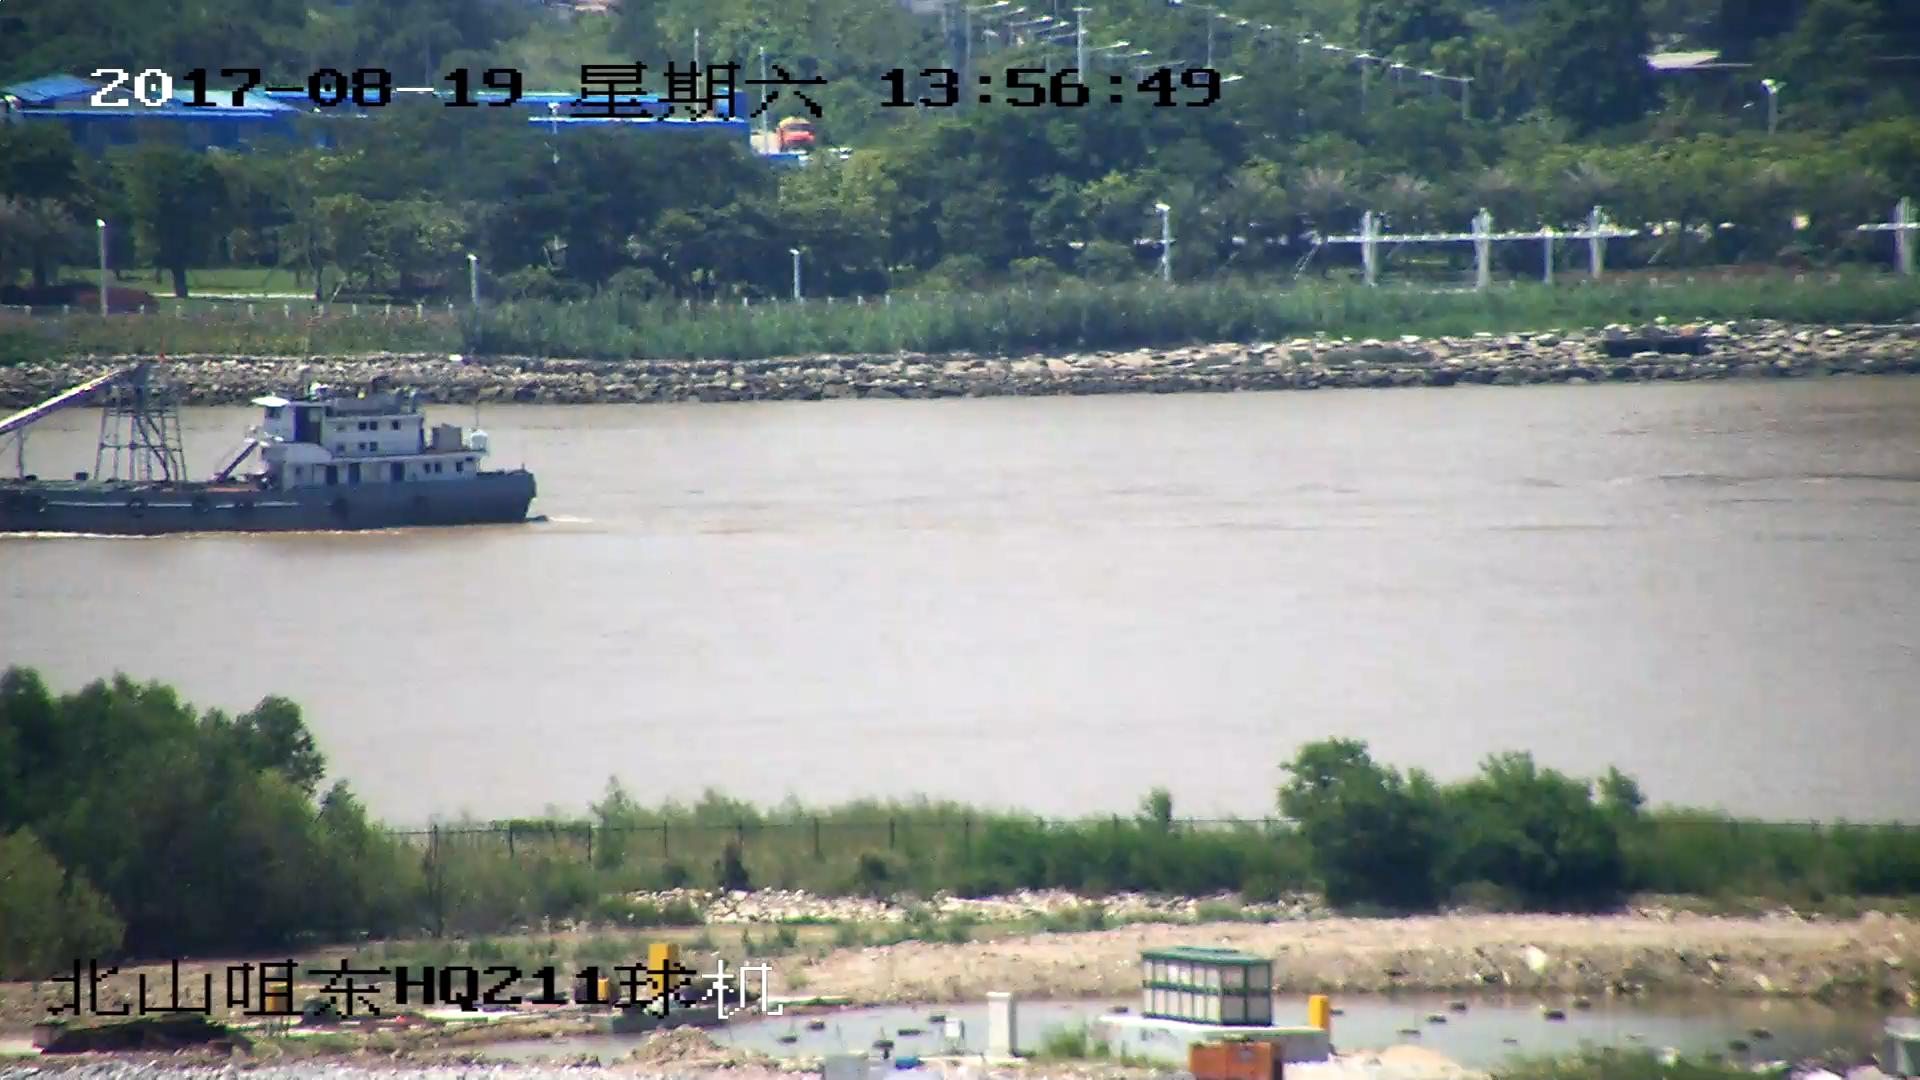fishing boat: (1, 367, 542, 536)
